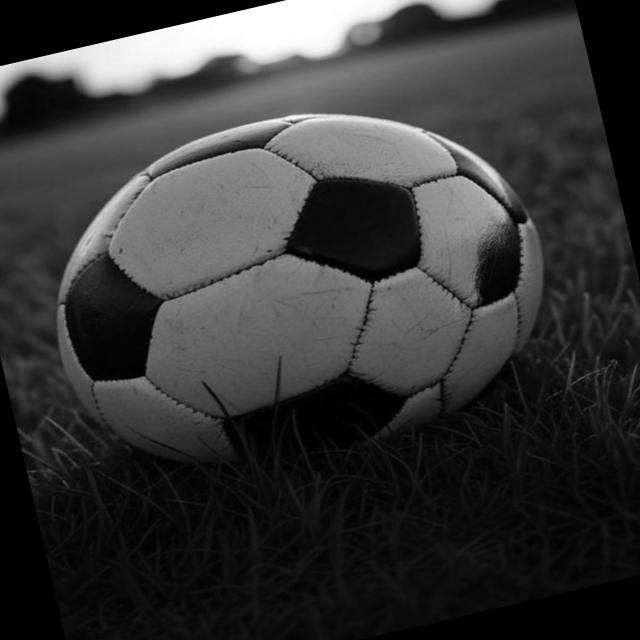football: (54, 114, 545, 468)
